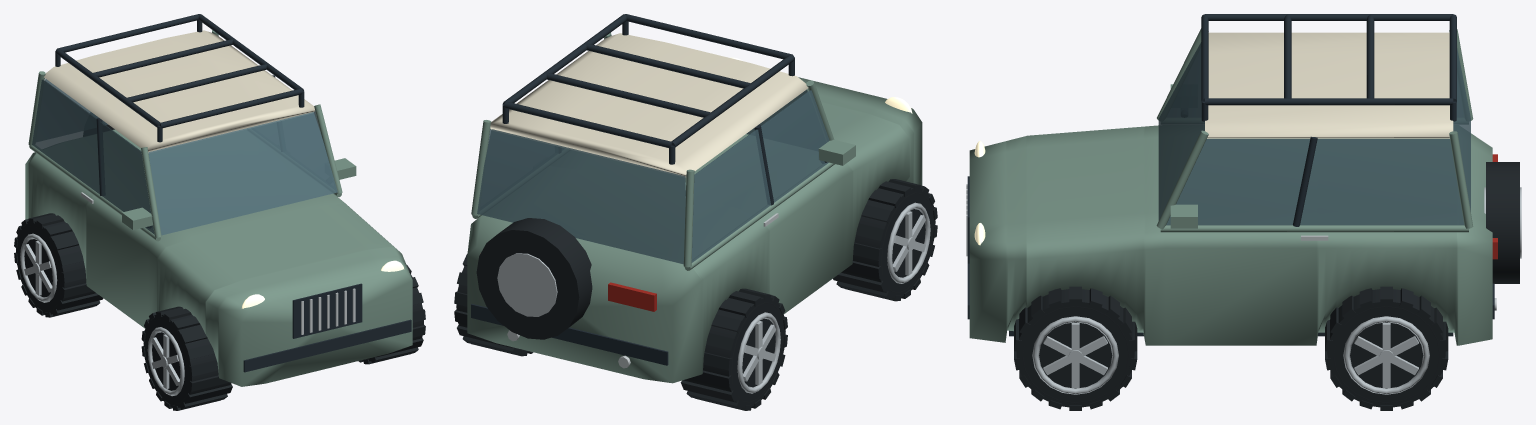
The model's file is moorland.glb.
3 renders of one model, left to right at view 1: azimuth 30°, elevation 25°; view 2: azimuth 150°, elevation 25°; view 3: azimuth 270°, elevation 25°, orthographic. The views are drawn at different scales.
Parts seen in each view (by area): view 1: exterior-paint, windows, secondary-paint, black-trim, tire-front-left, tire-rear-left, rim-rear-left, rim-front-left, tire-front-right, chrome, headlights; view 2: exterior-paint, windows, secondary-paint, black-trim, rubber, tire-rear-left, tire-front-left, rims, rim-front-left, rim-rear-left, tire-rear-right, taillights; view 3: exterior-paint, windows, secondary-paint, tire-front-right, tire-rear-right, black-trim, rubber, rim-front-right, rim-rear-right.
Part boxes in pixels (left/top/right/bottom): exterior-paint: left=25, top=30, right=412, bottom=386; windows: left=32, top=78, right=337, bottom=235; secondary-paint: left=44, top=30, right=315, bottom=152; black-trim: left=55, top=14, right=411, bottom=372; tire-front-left: left=141, top=306, right=232, bottom=410; tire-rear-left: left=14, top=213, right=103, bottom=317; rim-rear-left: left=20, top=233, right=57, bottom=302; rim-front-left: left=147, top=327, right=184, bottom=396; tire-front-right: left=358, top=265, right=425, bottom=364; chrome: left=81, top=192, right=355, bottom=334; headlights: left=241, top=260, right=404, bottom=308; exterior-paint: left=467, top=32, right=922, bottom=383; windows: left=477, top=89, right=829, bottom=264; secondary-paint: left=490, top=33, right=808, bottom=177; black-trim: left=471, top=14, right=827, bottom=365; rubber: left=476, top=218, right=592, bottom=339; tire-rear-left: left=680, top=288, right=787, bottom=410; tire-front-left: left=833, top=179, right=937, bottom=301; rims: left=497, top=253, right=557, bottom=316; rim-front-left: left=887, top=202, right=930, bottom=283; rim-rear-left: left=737, top=312, right=780, bottom=393; tire-rear-right: left=454, top=253, right=533, bottom=356; taillights: left=608, top=282, right=656, bottom=311; exterior-paint: left=969, top=28, right=1492, bottom=345; windows: left=1158, top=42, right=1470, bottom=225; secondary-paint: left=1205, top=32, right=1453, bottom=138; tire-front-right: left=1014, top=286, right=1137, bottom=410; tire-rear-right: left=1325, top=286, right=1448, bottom=410; black-trim: left=967, top=14, right=1494, bottom=336; rubber: left=1486, top=162, right=1519, bottom=283; rim-front-right: left=1032, top=316, right=1118, bottom=394; rim-rear-right: left=1343, top=316, right=1429, bottom=394.
Bounding box in the file's own units: 1.98 × 1.84 × 3.25.
